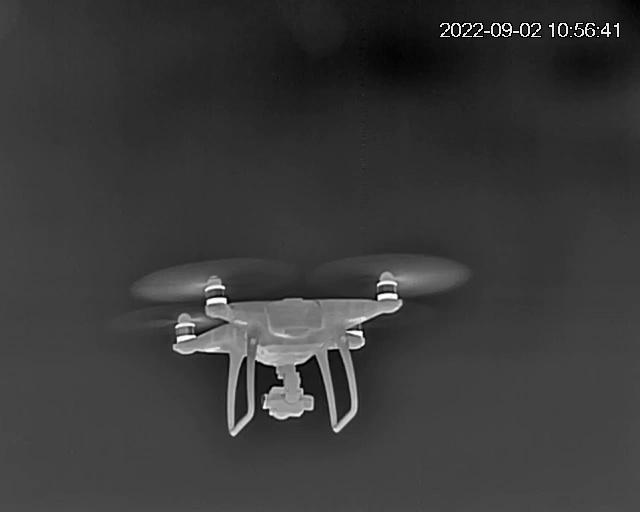DJI-Phantom: (137, 261, 427, 438)
